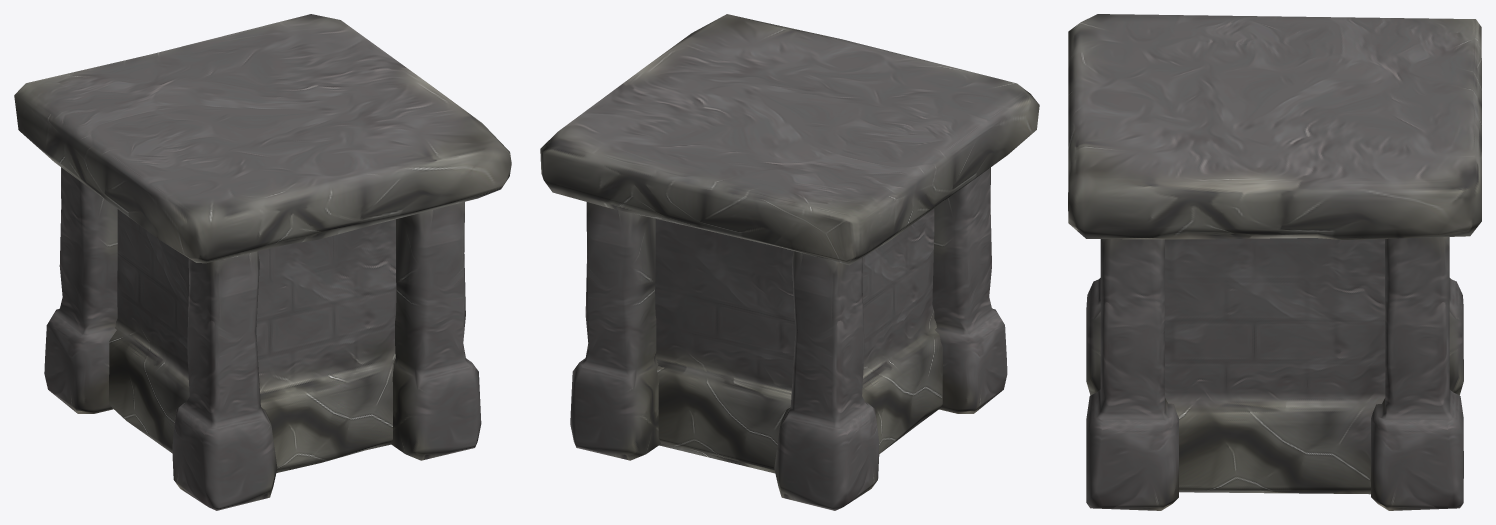
File: Pillar.fbx
The picture shows the model from 3 angles, left to right: view 1: azimuth 30°, elevation 25°; view 2: azimuth 150°, elevation 25°; view 3: azimuth 270°, elevation 25°; orthographic projection. The views are drawn at different scales.
Parts seen in each view (by area): view 1: Pillar_Base; view 2: Pillar_Base; view 3: Pillar_Base.
Part boxes in pixels (left/top/right/bottom): Pillar_Base: left=14, top=14, right=511, bottom=510; Pillar_Base: left=540, top=14, right=1039, bottom=510; Pillar_Base: left=1068, top=14, right=1481, bottom=510.
Bounding box in the file's own units: 104 × 94.04 × 104.
Materials: 1 (1 with a texture image).
